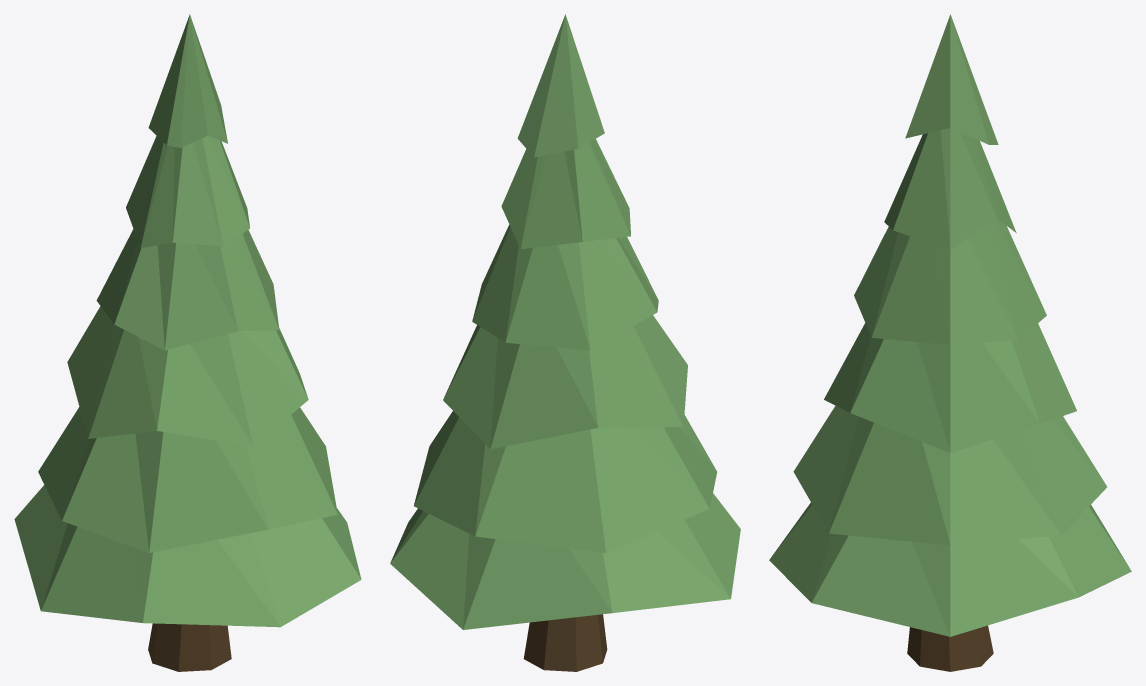
File: treePine.gltf
3 renders of one model, left to right at view 1: azimuth 30°, elevation 25°; view 2: azimuth 150°, elevation 25°; view 3: azimuth 270°, elevation 25°, orthographic.
Parts seen in each view (by area): view 1: Cylinder, Circle; view 2: Cylinder, Circle; view 3: Cylinder, Circle.
Part boxes in pixels (<box>): Cylinder: <box>14,14,361,627</box>; Circle: <box>148,623,231,671</box>; Cylinder: <box>390,14,740,629</box>; Circle: <box>523,614,607,671</box>; Cylinder: <box>769,14,1131,636</box>; Circle: <box>907,625,993,671</box>.
Bounding box in the file's own units: 4.93 × 9.6 × 4.93.
